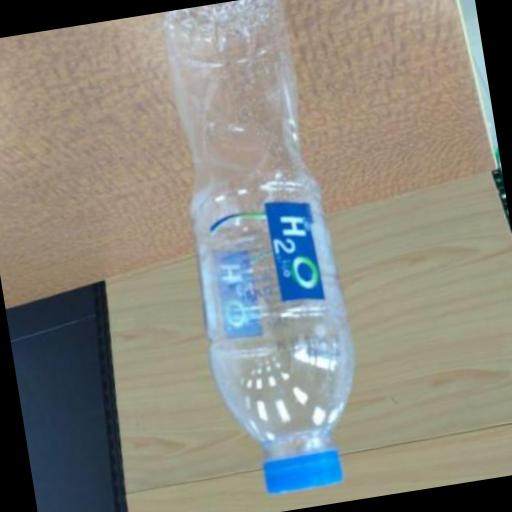Coca: (148, 0, 381, 510)
